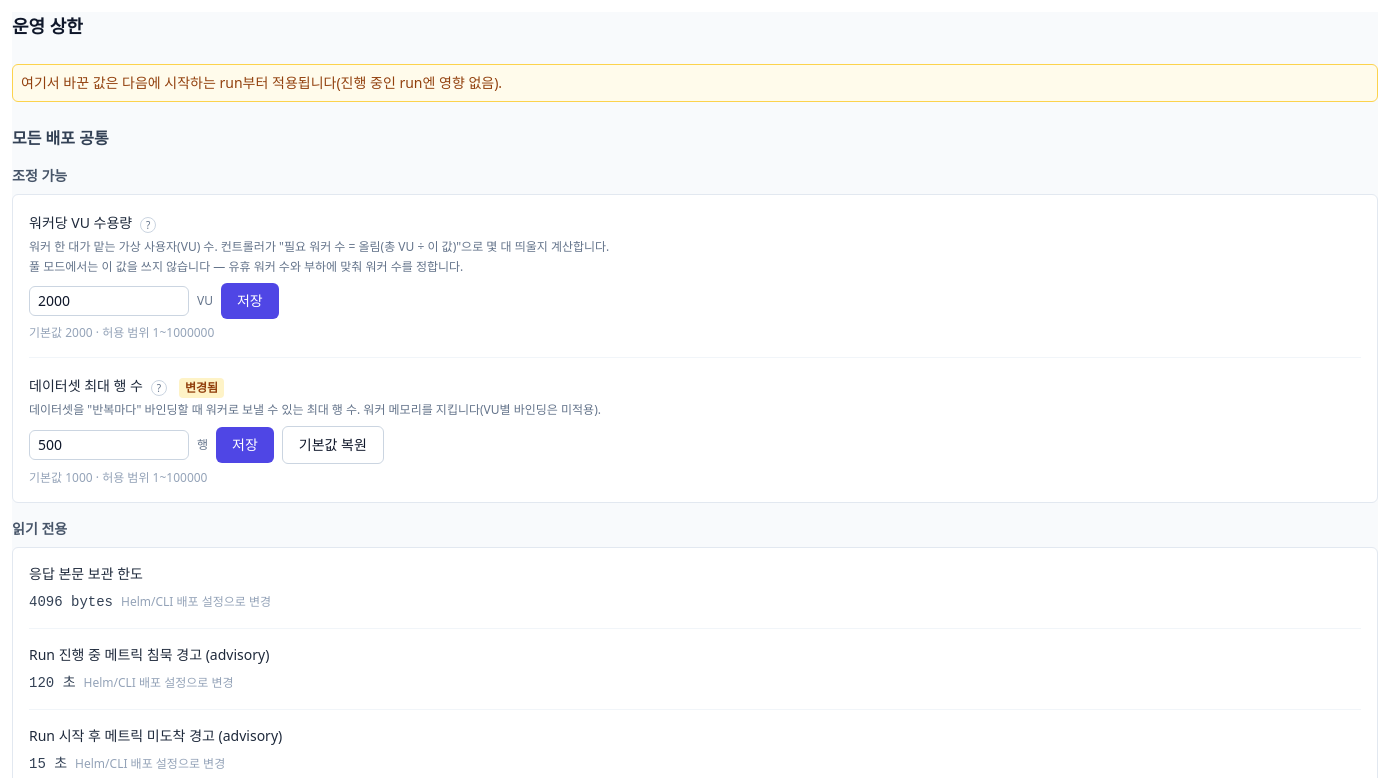
Test: SettingsPage › shows role=alert error banner when putSetting rejects (Fix 2)
Expected: the heading "모든 배포 공통" is shown, [12,127,109,149]
Replace the text in the number field labelled "워커당 VU 수용량" with "999" at (109, 301), box [29,286,189,316]
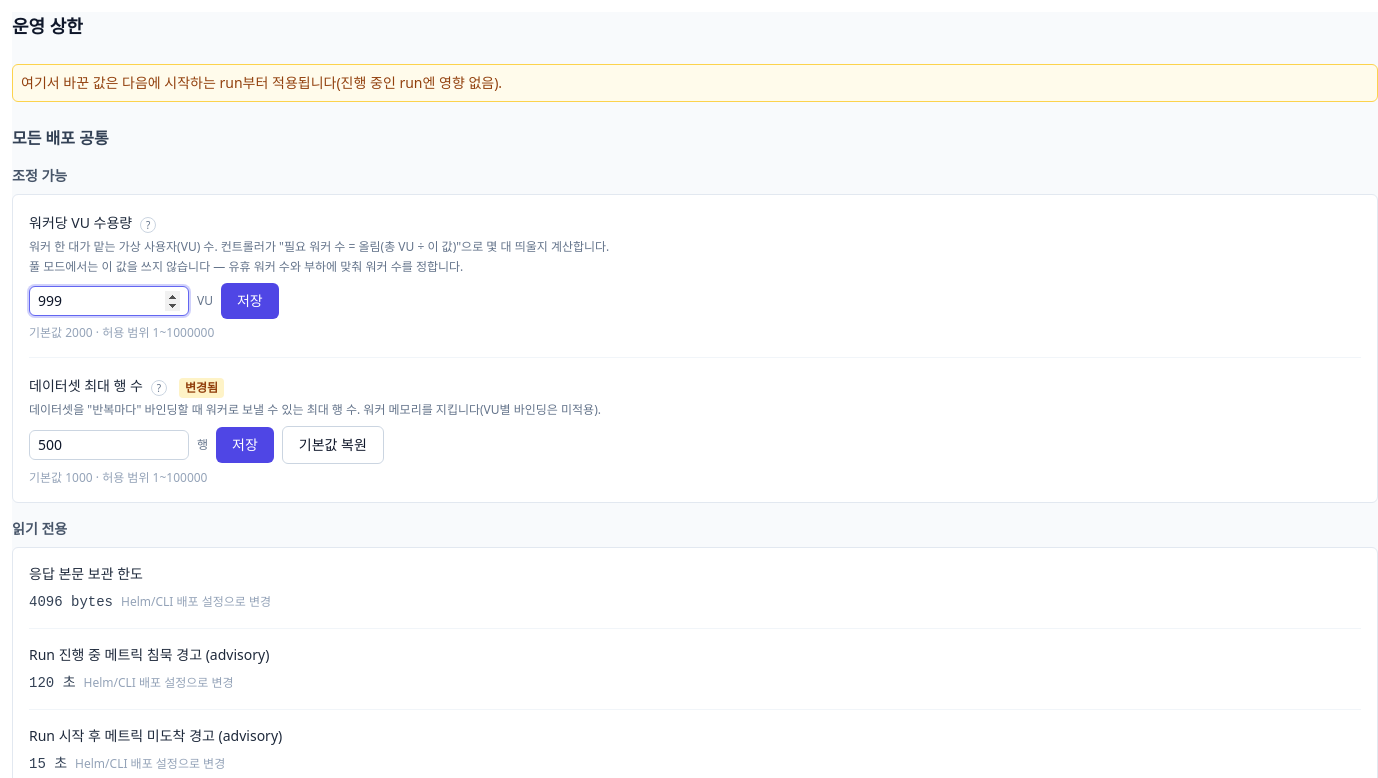
Click the button "저장" below "워커당 VU 수용량".
click(250, 301)  # box [221,283,279,319]
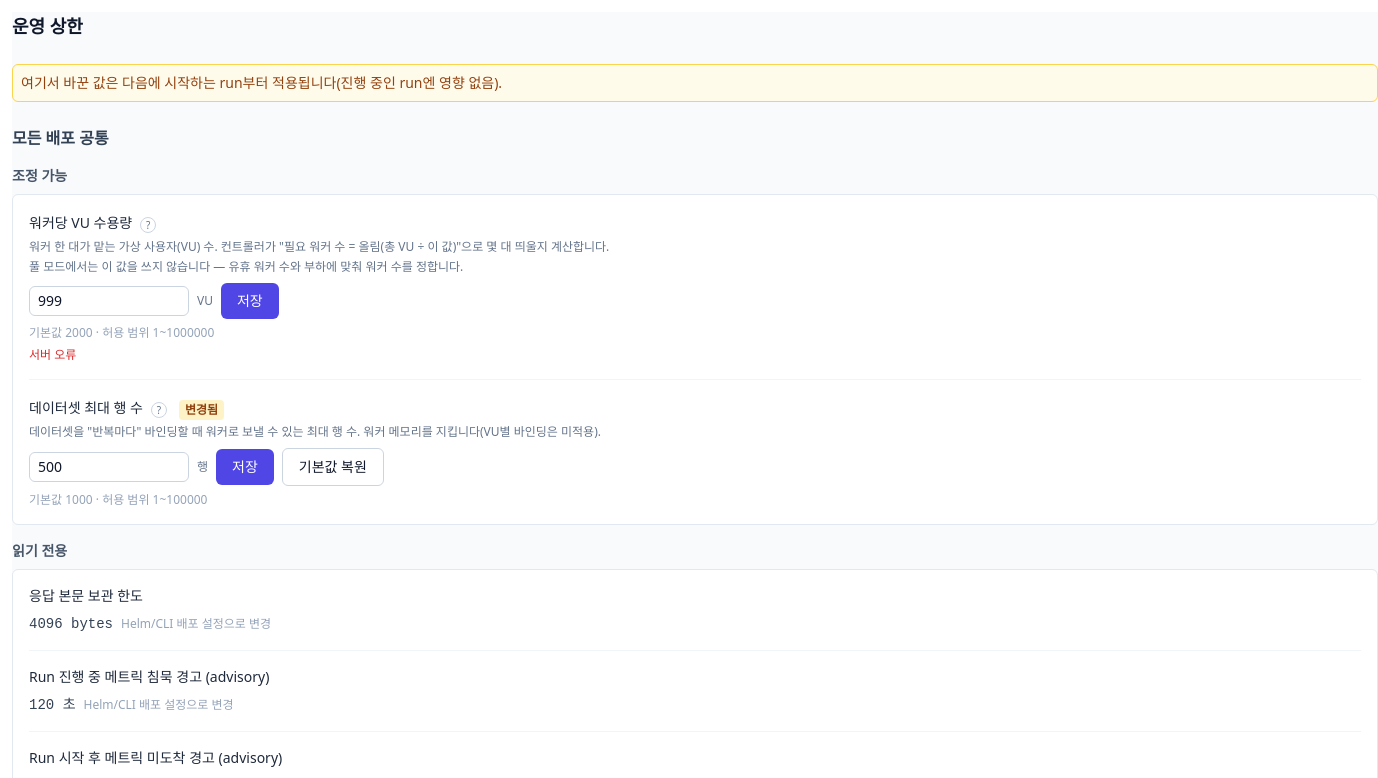
Now the message "서버 오류" is shown, box [29,346,76,363]
